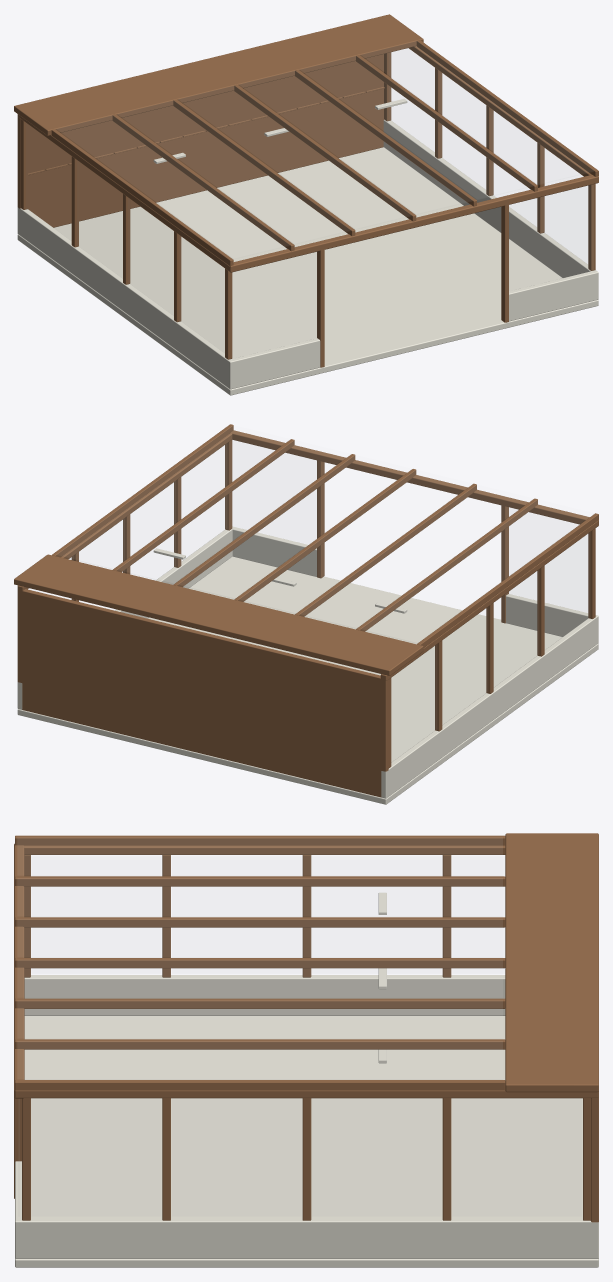
Rendered from tea_terrace.glb.
3 renders of one model, top to bottom at view 1: azimuth 30°, elevation 25°; view 2: azimuth 150°, elevation 25°; view 3: azimuth 270°, elevation 25°, orthographic. The views are drawn at different scales.
Parts seen in each view (by area): view 1: tea-garden-and-processing-house-roofed-processing-house; view 2: tea-garden-and-processing-house-roofed-processing-house; view 3: tea-garden-and-processing-house-roofed-processing-house.
Boxes of the visible parts, left/top/right/bottom form: tea-garden-and-processing-house-roofed-processing-house: left=14, top=14, right=598, bottom=395; tea-garden-and-processing-house-roofed-processing-house: left=14, top=424, right=598, bottom=804; tea-garden-and-processing-house-roofed-processing-house: left=14, top=833, right=598, bottom=1267.
Size of the model in its own units: 10.2 by 3.53 by 10.02.
